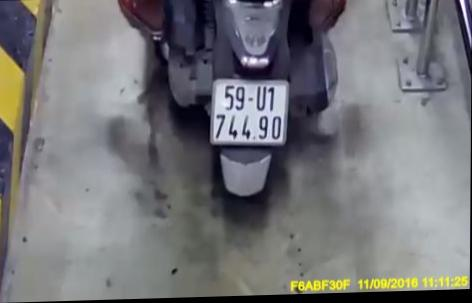LP: (208, 75, 291, 153)
